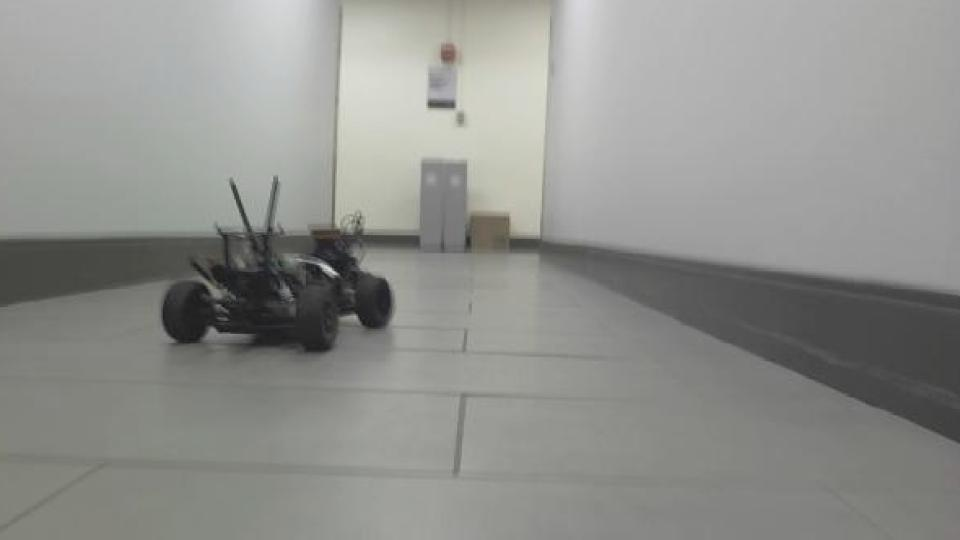car: (156, 172, 397, 355)
